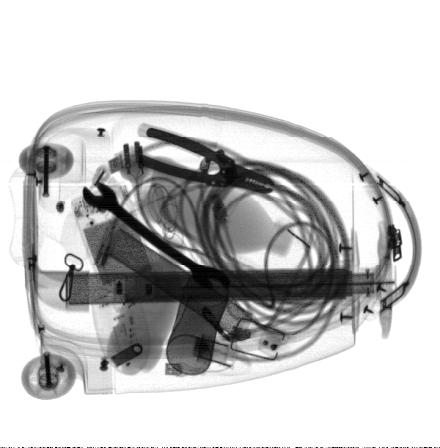Pliers: (136, 126, 274, 194)
Powerbank: (69, 183, 155, 290)
Wrench: (81, 181, 230, 289)
